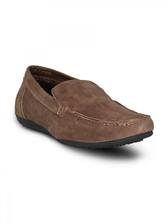shoes: (16, 61, 157, 156)
